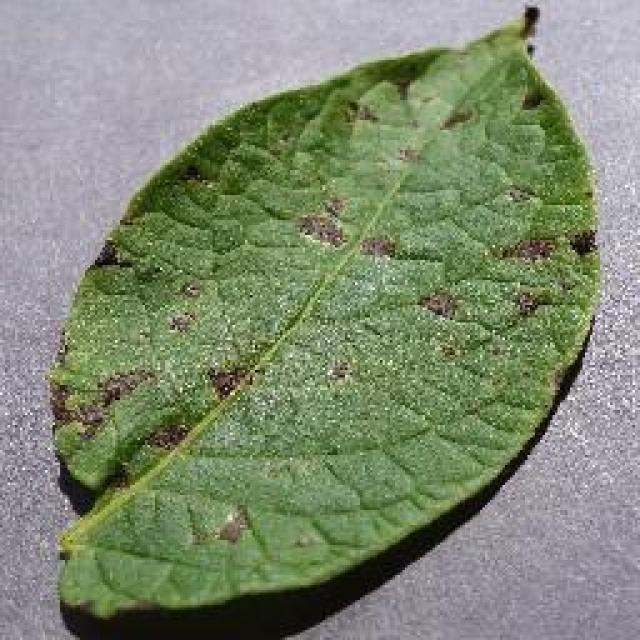early_blight: (43, 0, 605, 638)
